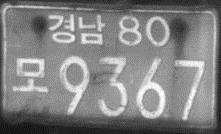0: (145, 15, 171, 49)
3: (96, 55, 129, 119)
6: (133, 53, 167, 120)
7: (171, 58, 207, 123)
8: (116, 14, 143, 47)
9: (58, 55, 92, 117)
경남_O: (46, 12, 106, 47)
모: (11, 55, 49, 95)
